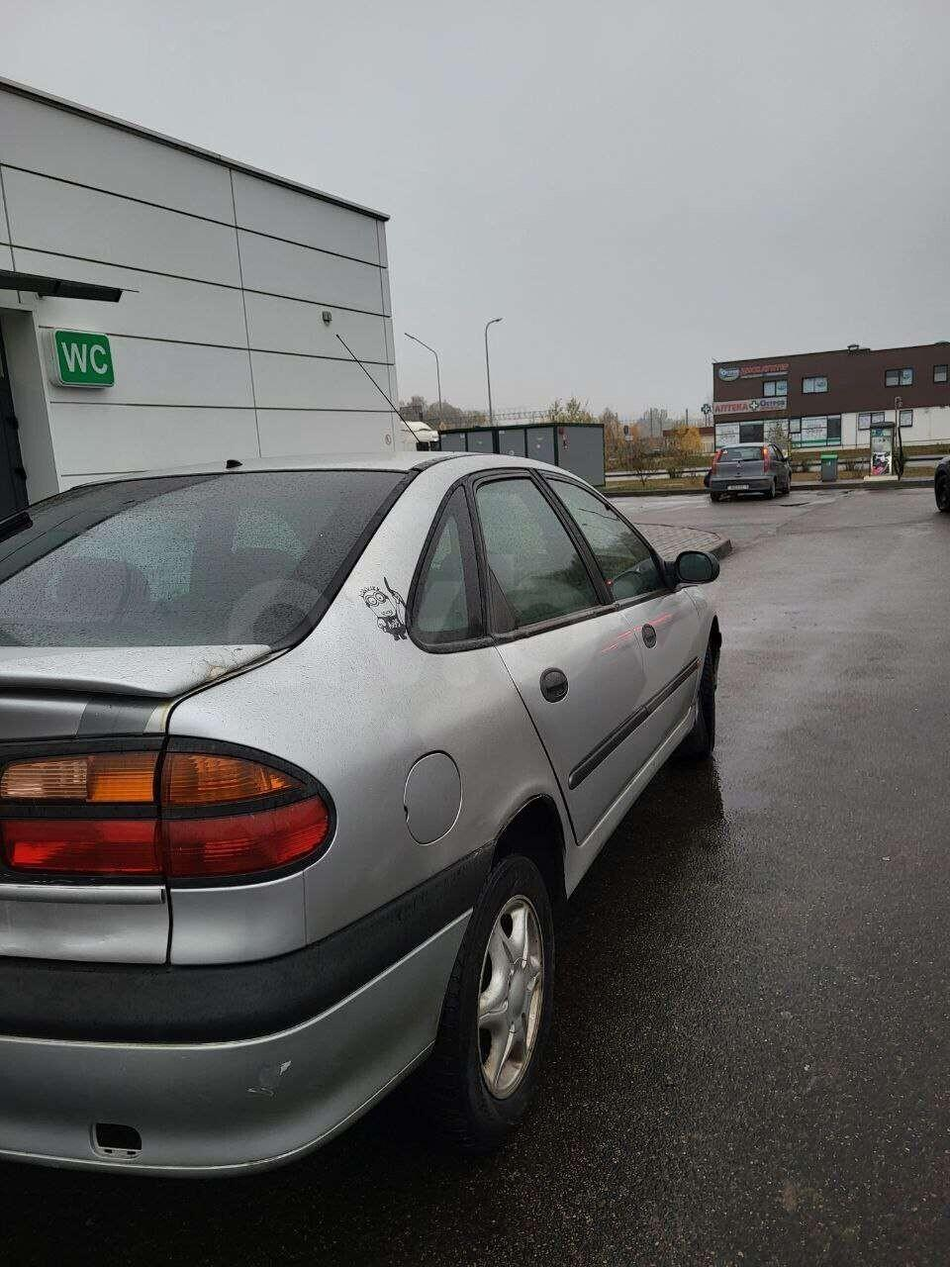Laguna_1998-2001: (0, 434, 728, 1227)
